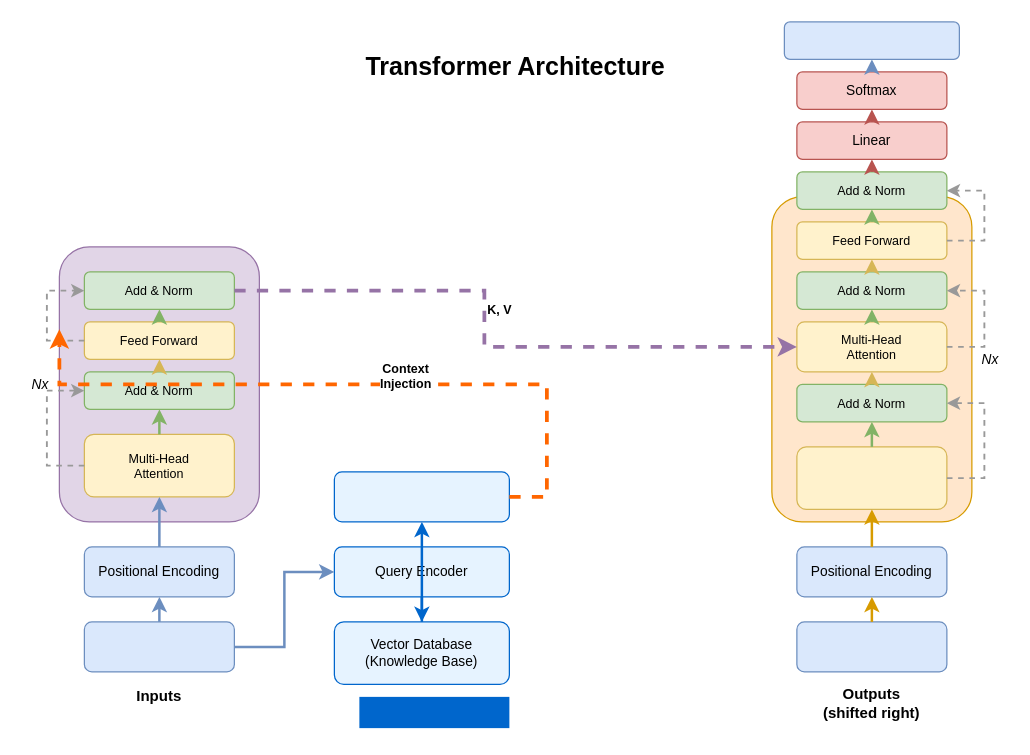
Image size: 1030x755. Some labels were removed from this diagram. The box of each missing label's shape, as (x1, y1, x2, y2) in pixels:
DECODER: (771, 196, 972, 522)
ENCODER: (58, 246, 259, 522)
Input Embedding: (83, 621, 234, 672)
Masked Multi-Head Attention: (796, 446, 947, 509)
Output Embedding: (796, 621, 947, 672)
Output Probabilities: (783, 21, 959, 59)
RAG Components: (359, 696, 509, 728)
Retrieved Context: (333, 471, 509, 522)
